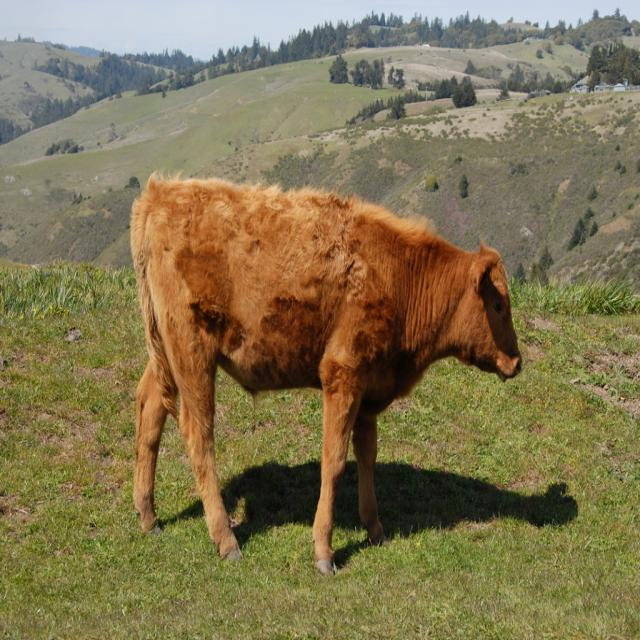Cattle: (130, 169, 522, 579)
